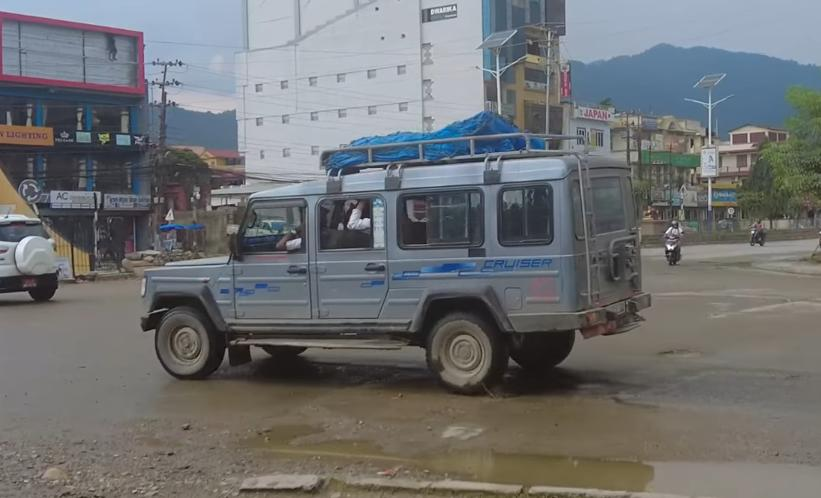SUV: (134, 130, 654, 401)
car: (0, 211, 63, 308)
